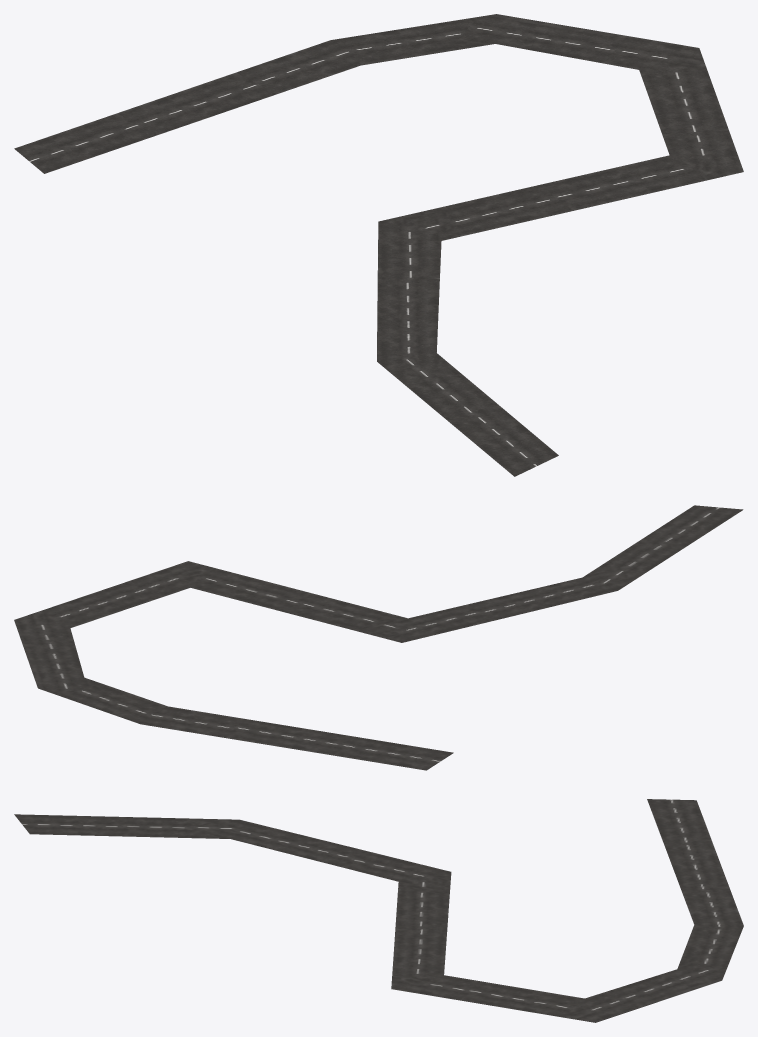
Rendered from camino.fbx.
3 views of the same model, one above another, from view 1: azimuth 30°, elevation 25°; view 2: azimuth 150°, elevation 25°; view 3: azimuth 270°, elevation 25° (orthographic). The views are drawn at different scales.
Parts seen in each view (by area): view 1: camino; view 2: camino; view 3: camino.
Boxes of the visible parts, x1,y1,x2,y2 form: camino: (14,14,743,476); camino: (14,505,743,770); camino: (14,799,743,1022).
Bounding box in the file's own units: 5665 × 0.000249 × 7806.
Materials: 1 (1 with a texture image).
